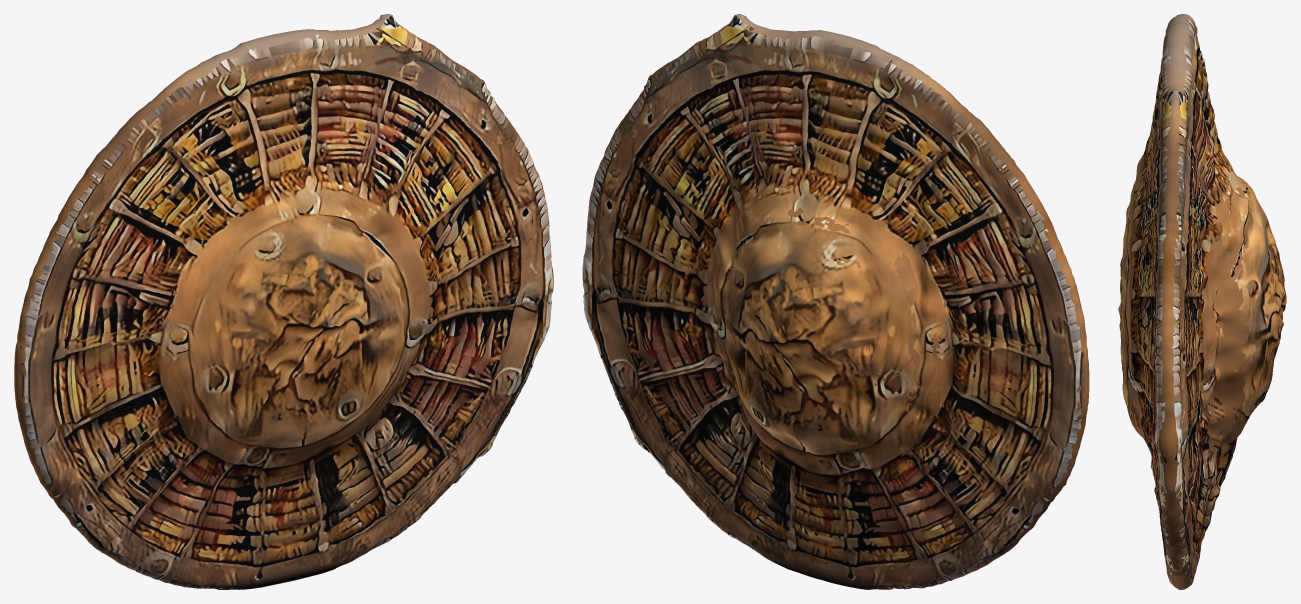
The model's file is kfl-2133.glb.
3 renders of one model, left to right at view 1: azimuth 30°, elevation 25°; view 2: azimuth 150°, elevation 25°; view 3: azimuth 270°, elevation 25°, orthographic. The views are drawn at different scales.
Parts seen in each view (by area): view 1: kfl-2133; view 2: kfl-2133; view 3: kfl-2133.
Boxes of the visible parts, x1=… form: kfl-2133: x1=14, y1=14, x2=553, y2=589; kfl-2133: x1=582, y1=14, x2=1089, y2=589; kfl-2133: x1=1118, y1=14, x2=1286, y2=589.
Bounding box in the file's own units: 0.9896 × 0.9939 × 0.2926.
4 materials, 4 textured.
